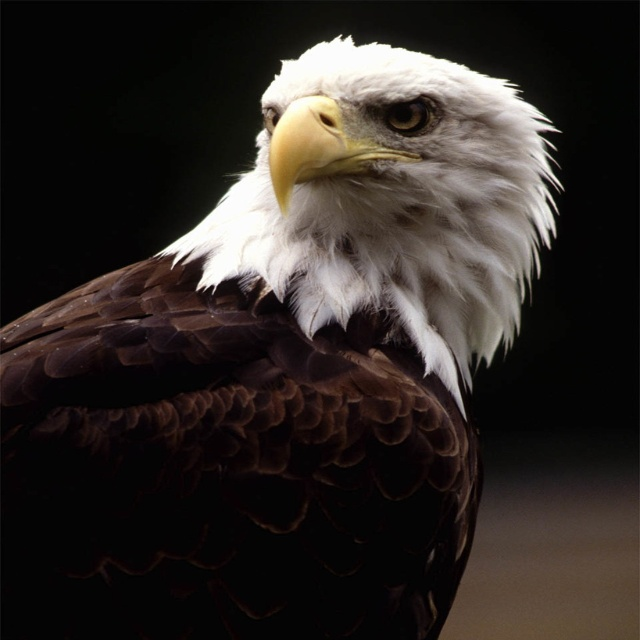Eagle: (0, 30, 570, 639)
